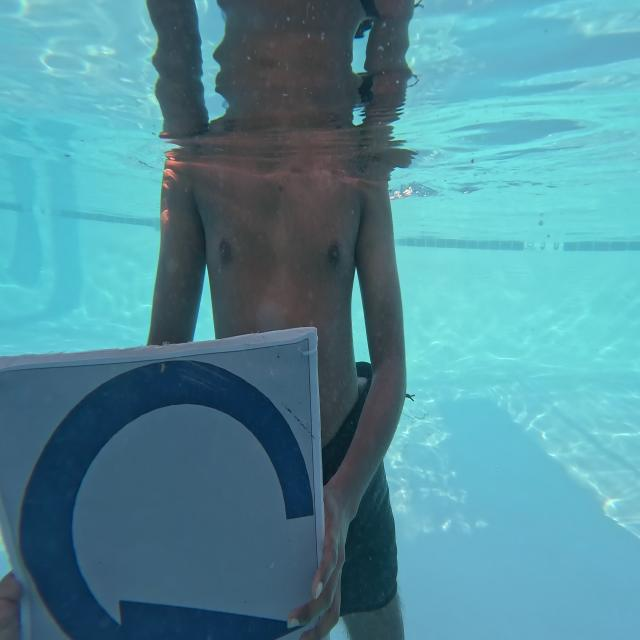blue_side: (0, 333, 321, 639)
